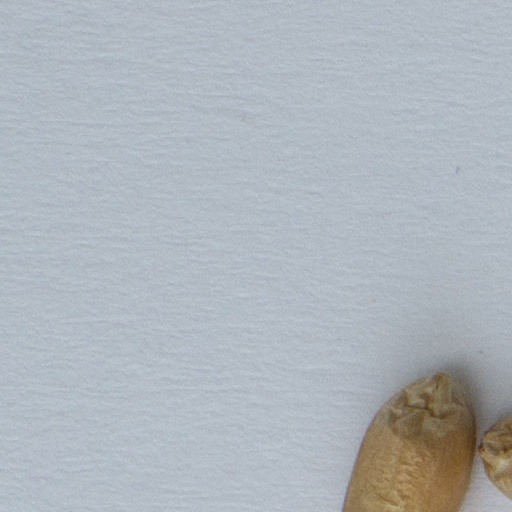Wheat-grain-poly: (340, 368, 477, 511), (477, 411, 511, 499)
